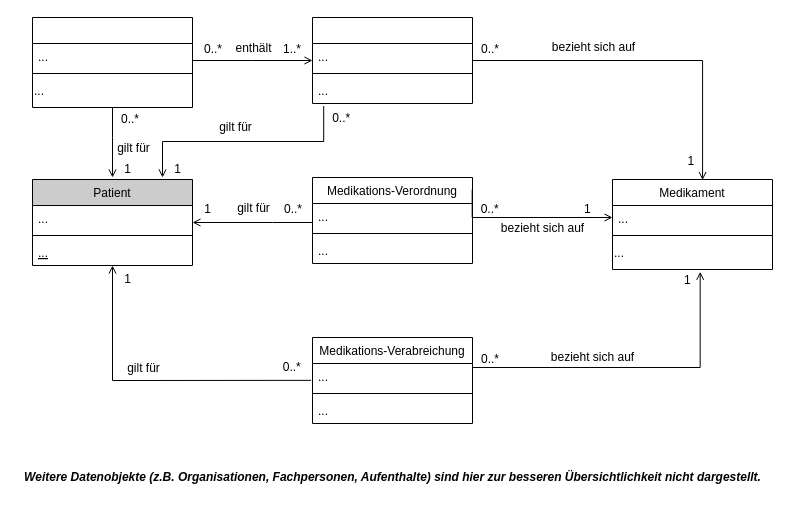
Some shapes in this 790 by 505 pixel diagram are drawn without their labels. Here are the shapes that lost their labels. From the top down, the box of each, then its label:
(32, 16, 192, 108): Medikations-Liste
(312, 16, 472, 104): Medikations-Information
